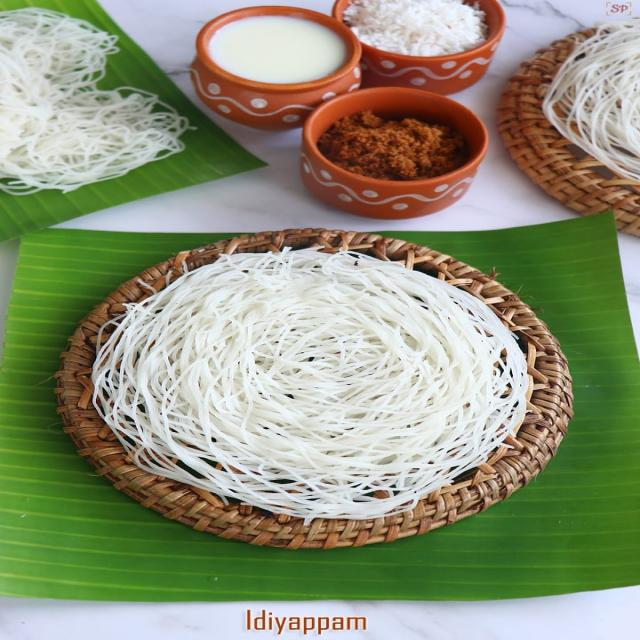IDIYAPPAM: (73, 234, 544, 531), (3, 8, 197, 195)
PODI: (323, 95, 476, 180)
